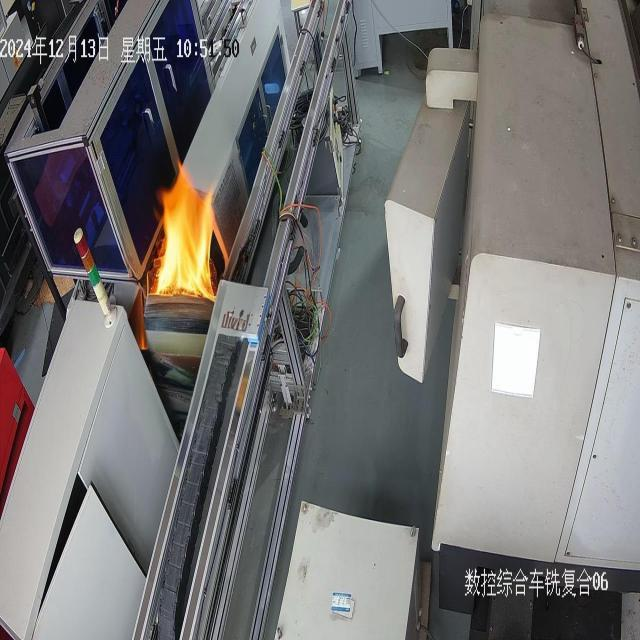smoke: (150, 157, 218, 303)
